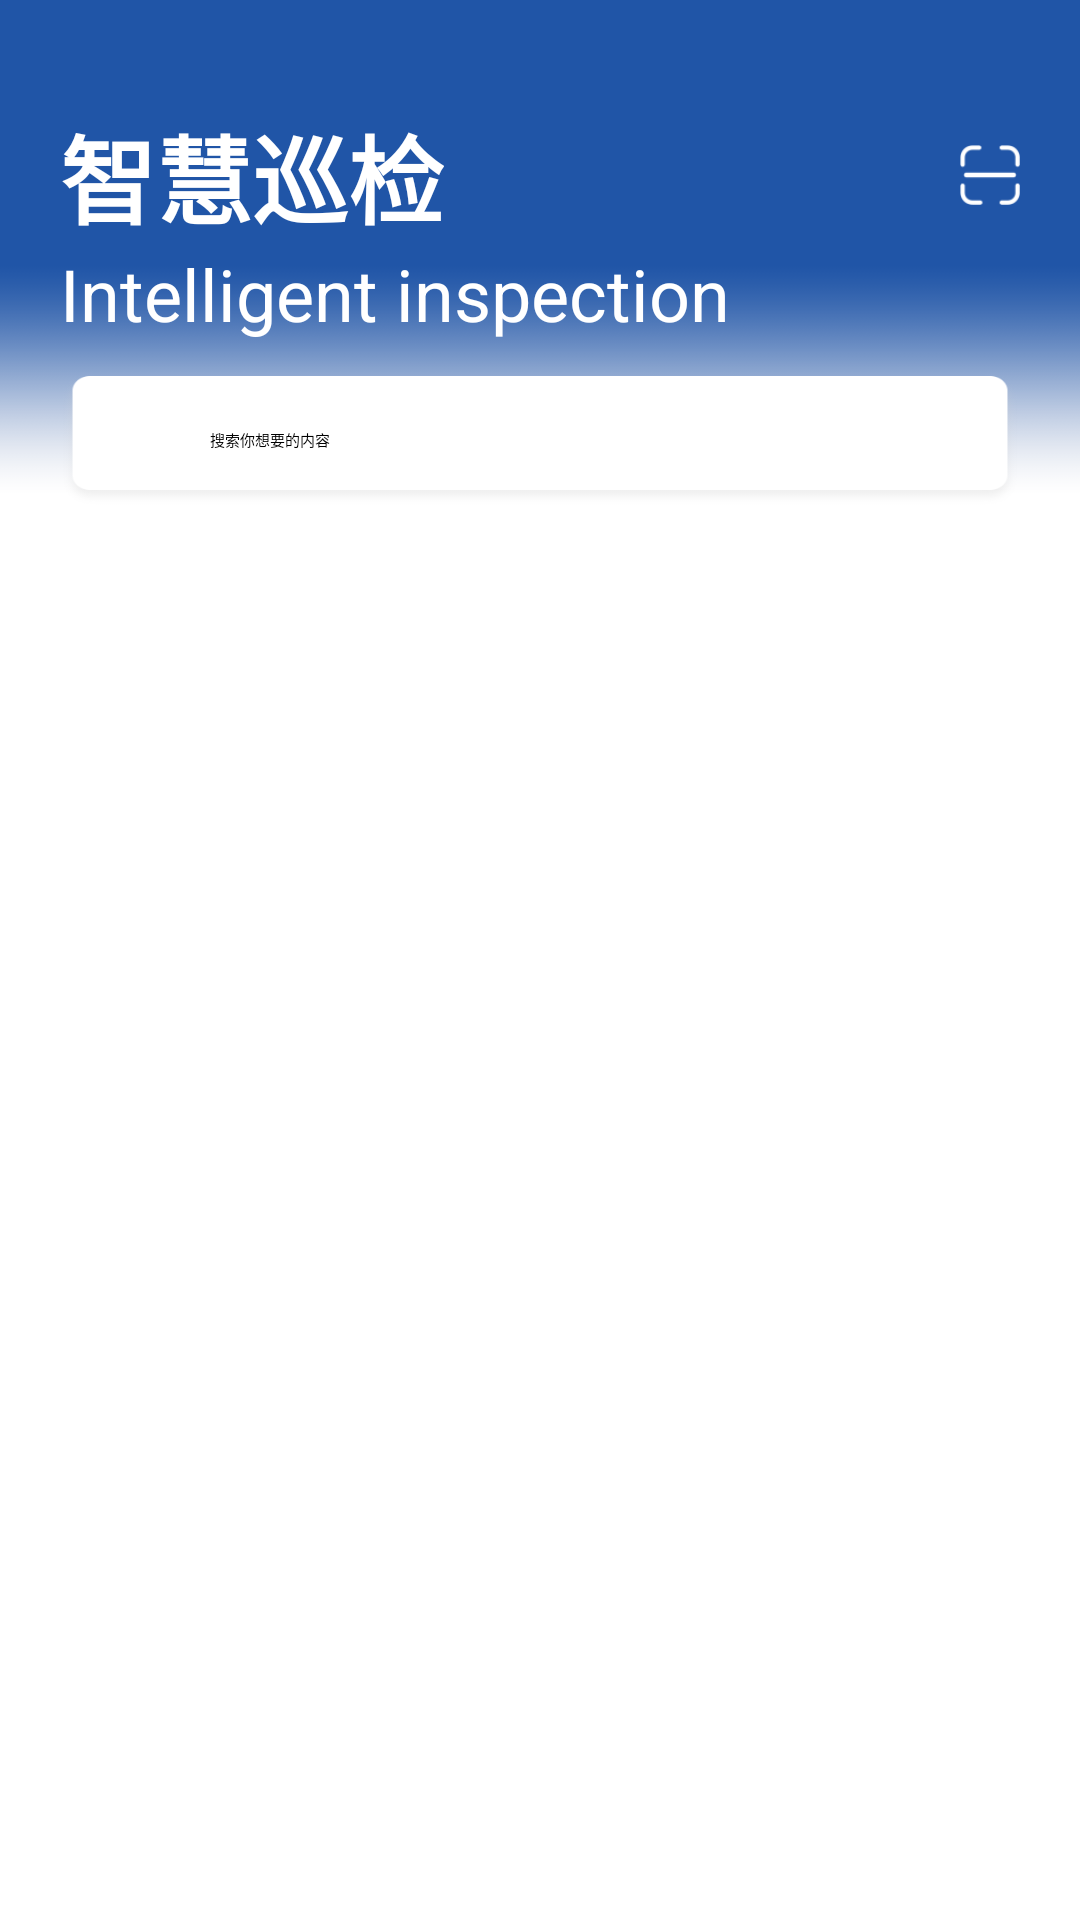

Icon click points for this 1080 x 1920 phone screenshot, format point (x, y):
scan sel: point (990, 175)
